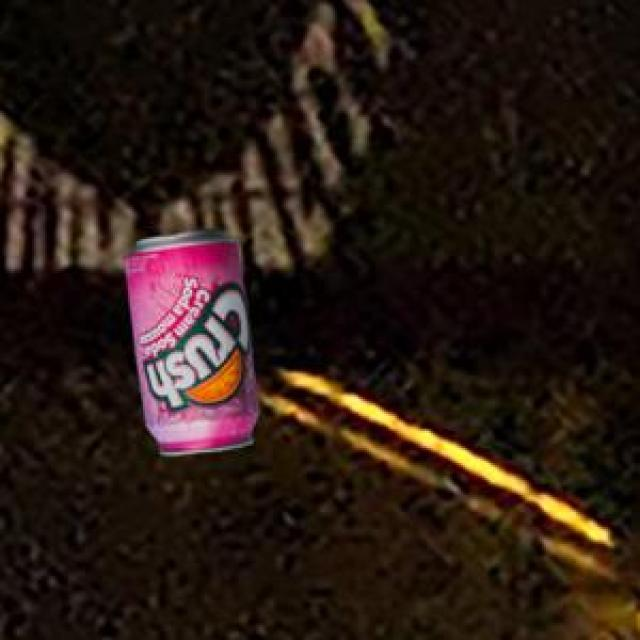Can: (121, 227, 255, 451)
